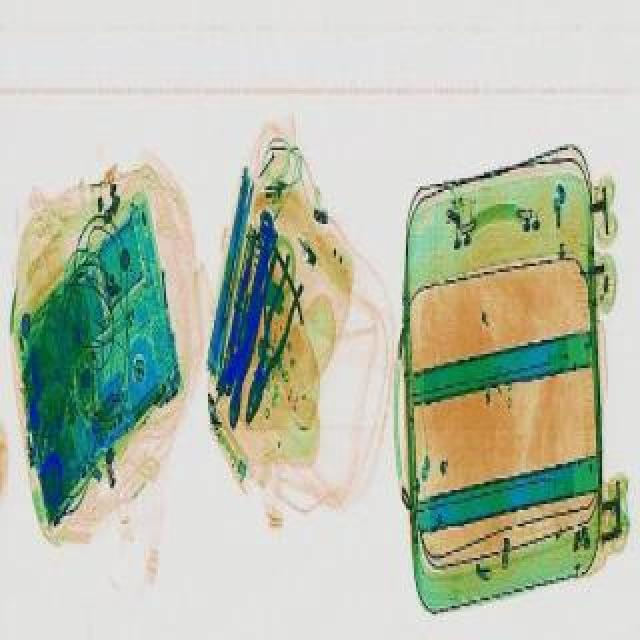wrench: (234, 250, 314, 424)
